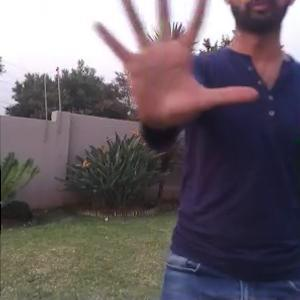follow_hand: (81, 0, 262, 133)
